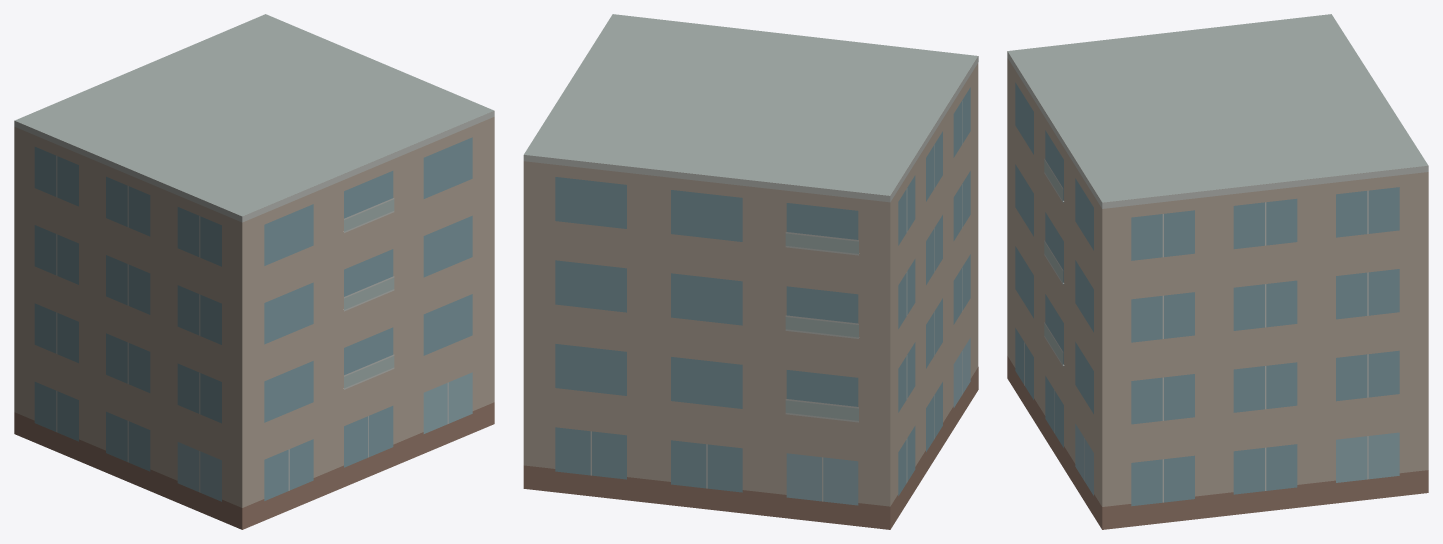
The model's file is survey-upis-32704939.glb.
The picture shows the model from 3 angles, left to right: view 1: azimuth 30°, elevation 25°; view 2: azimuth 150°, elevation 25°; view 3: azimuth 270°, elevation 25°; orthographic projection. The views are drawn at different scales.
Parts seen in each view (by area): view 1: survey-upis-32704939.tmp; view 2: survey-upis-32704939.tmp; view 3: survey-upis-32704939.tmp.
Part boxes in pixels (x1,y1,x2,y2): survey-upis-32704939.tmp: (14,14,494,529); survey-upis-32704939.tmp: (523,14,978,529); survey-upis-32704939.tmp: (1007,14,1428,529).
Bounding box in the file's own units: 15.72 × 12.7 × 14.83.
